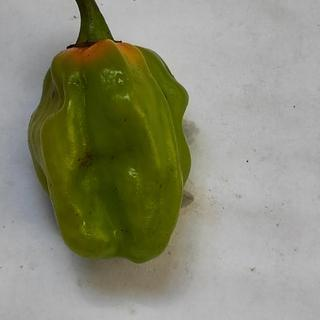Grade-A: (22, 35, 193, 263)
